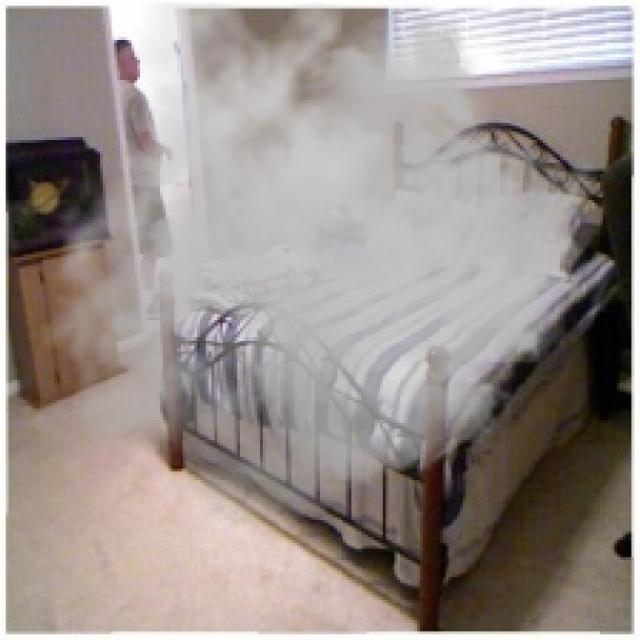Smoke: (37, 2, 600, 528)
